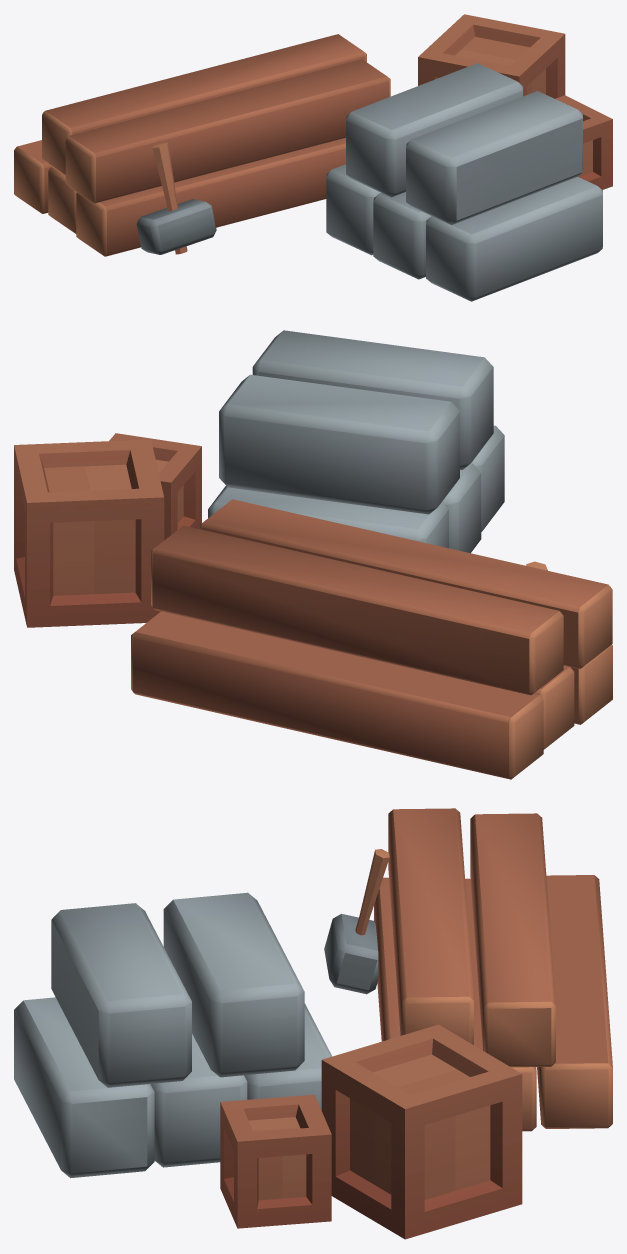
The model's file is k-stage-a-kaykit.glb.
The picture shows the model from 3 angles, top to bottom: view 1: azimuth 30°, elevation 25°; view 2: azimuth 150°, elevation 25°; view 3: azimuth 270°, elevation 25°; orthographic projection. The views are drawn at different scales.
Parts seen in each view (by area): view 1: building_stage_A; view 2: building_stage_A; view 3: building_stage_A.
Boxes of the visible parts, x1,y1,x2,y2 form: building_stage_A: [14, 14, 612, 301]; building_stage_A: [14, 330, 612, 779]; building_stage_A: [14, 808, 612, 1239].
Bounding box in the file's own units: 1.05 × 0.2859 × 0.875.
1 material, 1 textured.
